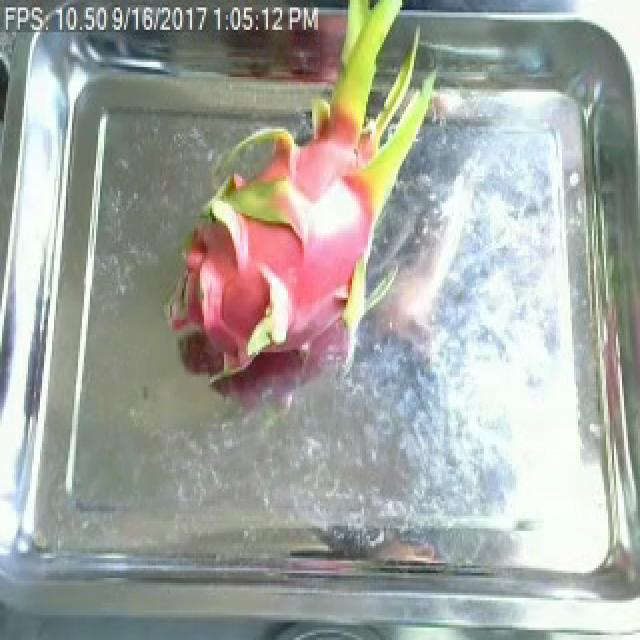fruit: (150, 2, 456, 400)
